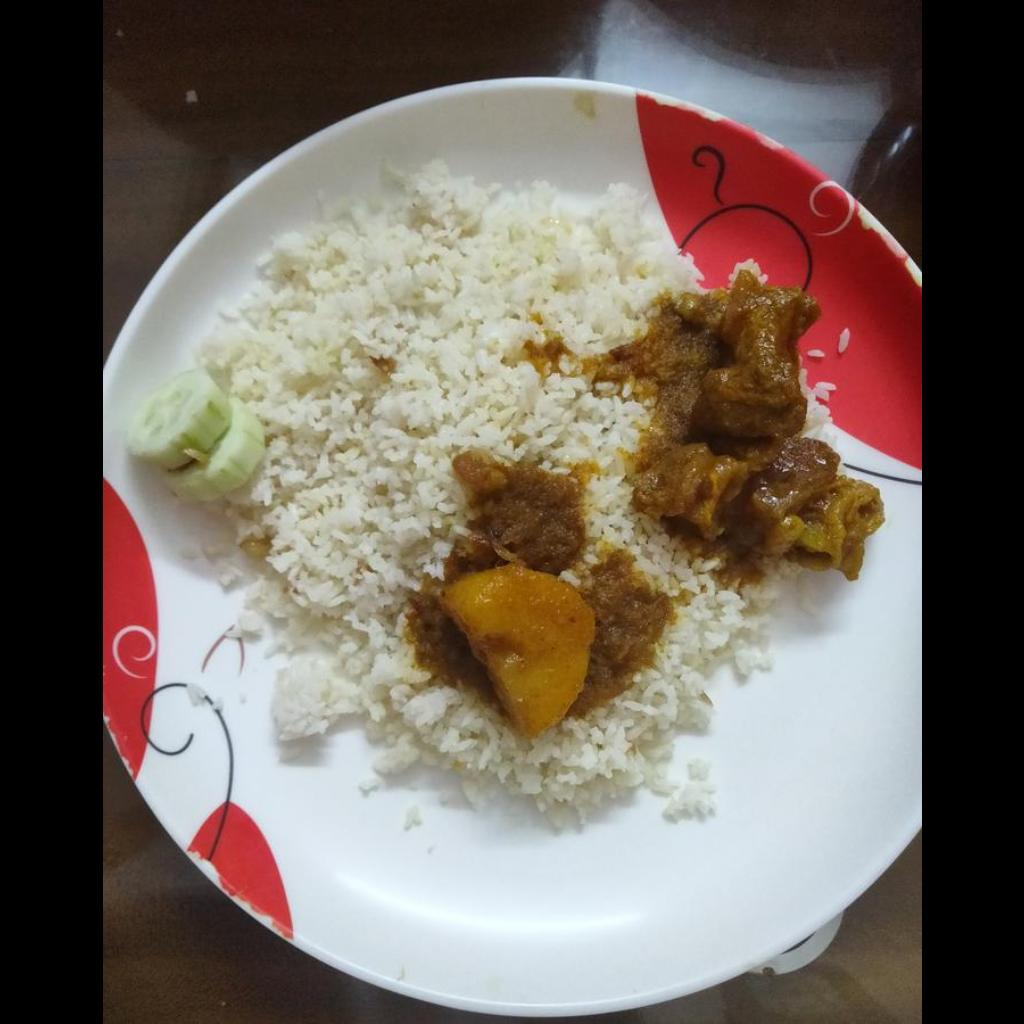beef: (637, 273, 882, 581)
cucumber: (127, 368, 264, 498)
potato: (441, 562, 594, 736)
rice: (196, 168, 798, 821)
